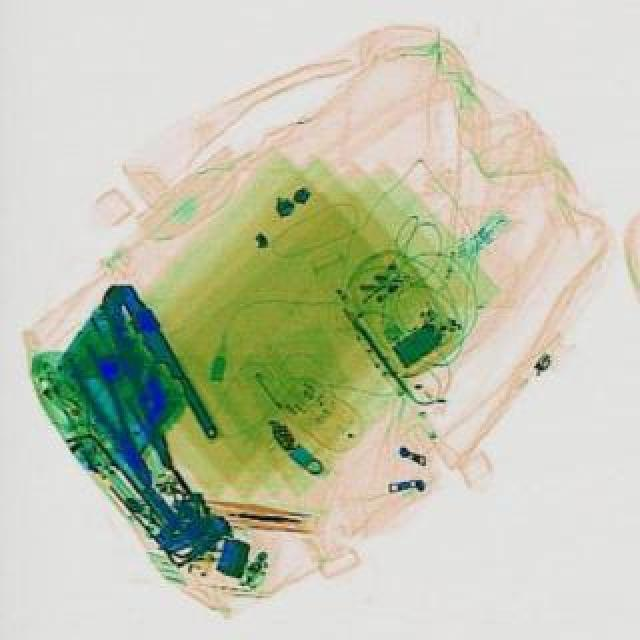wrench: (76, 272, 224, 468)
